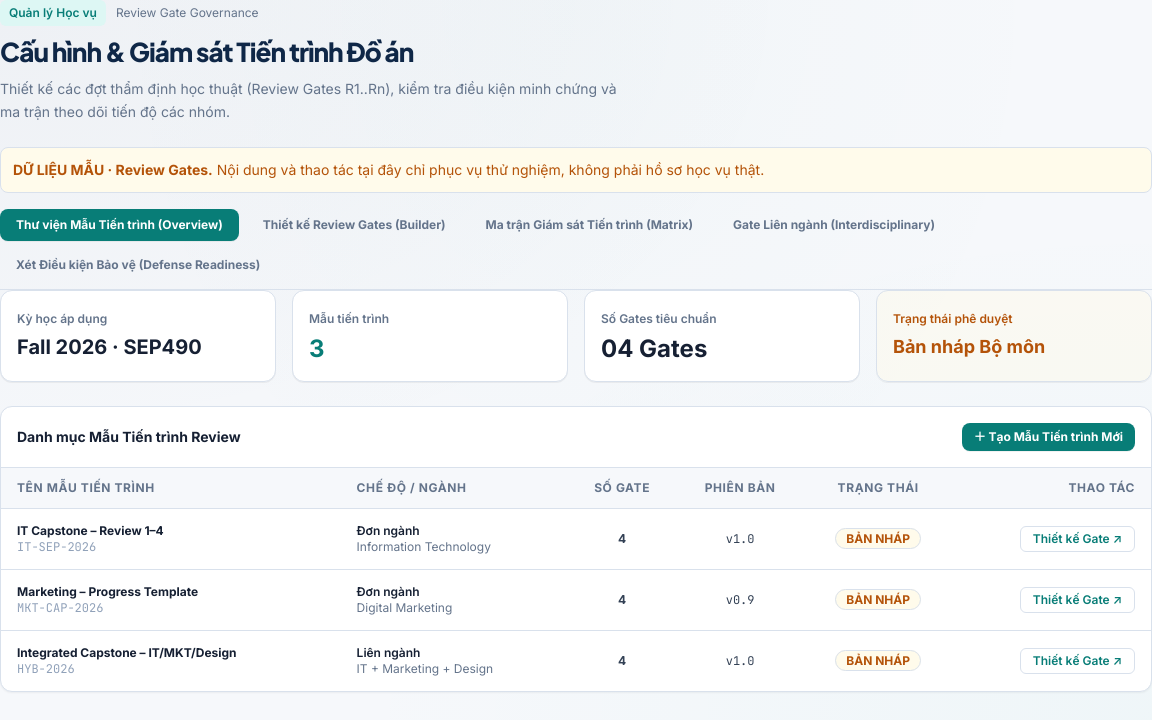
Scenario: ReviewGateGovernancePage (Academic Review Gates Vertical Slice) › enforces interdisciplinary gate dependency: blocks PASS until all required disciplines pass
Expected: the text "IT Capstone – Review 1–4" is shown, [17,523,164,538]
Click the button "Gate Liên ngành (Interdisciplinary)". click: [834, 225]
box: [717,209,951,241]
(page scrolled)
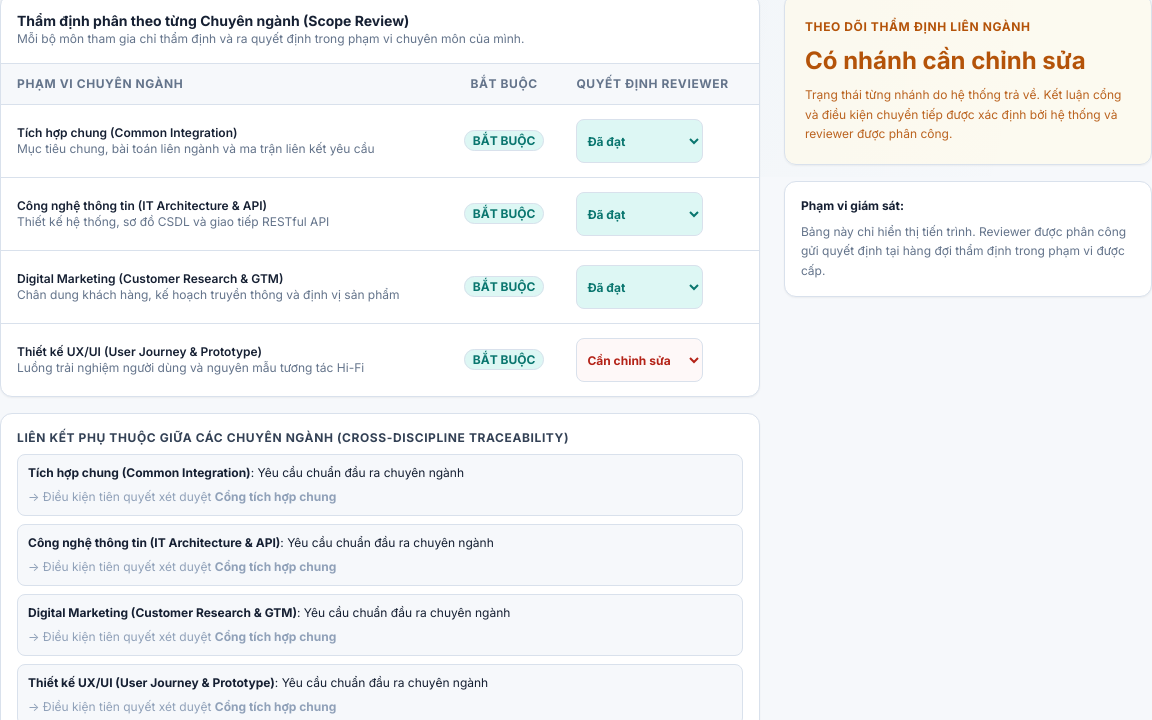
Now the text "Có nhánh cần chỉnh sửa" is shown, box [805,46,1131,78]
Now the dropdown named "Trạng thái thẩm định · Thiết kế UX/UI (User Journey & Protot" is shown
Select "Đã đạt" in the dropdown named "Trạng thái thẩm định · Thiết kế UX/UI (User Journey & Protot". click: [640, 360]
box: [576,338,703,382]
(page scrolled)
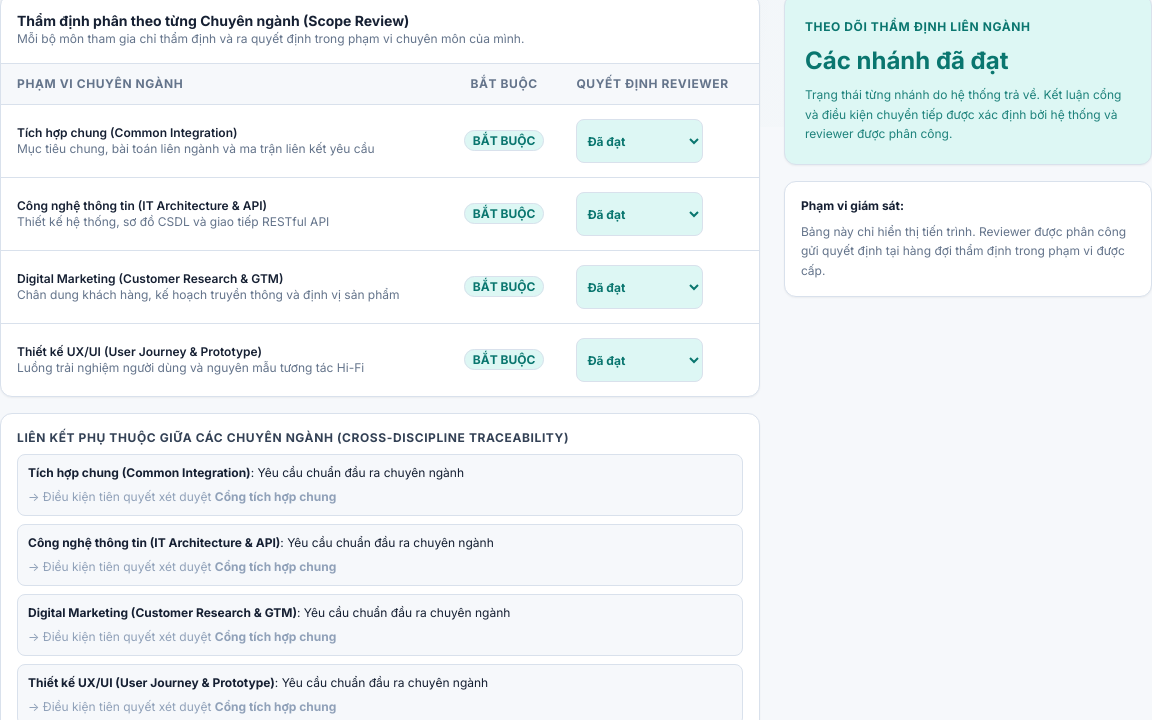
Now the text "Các nhánh đã đạt" is shown, box [805,46,1008,76]
